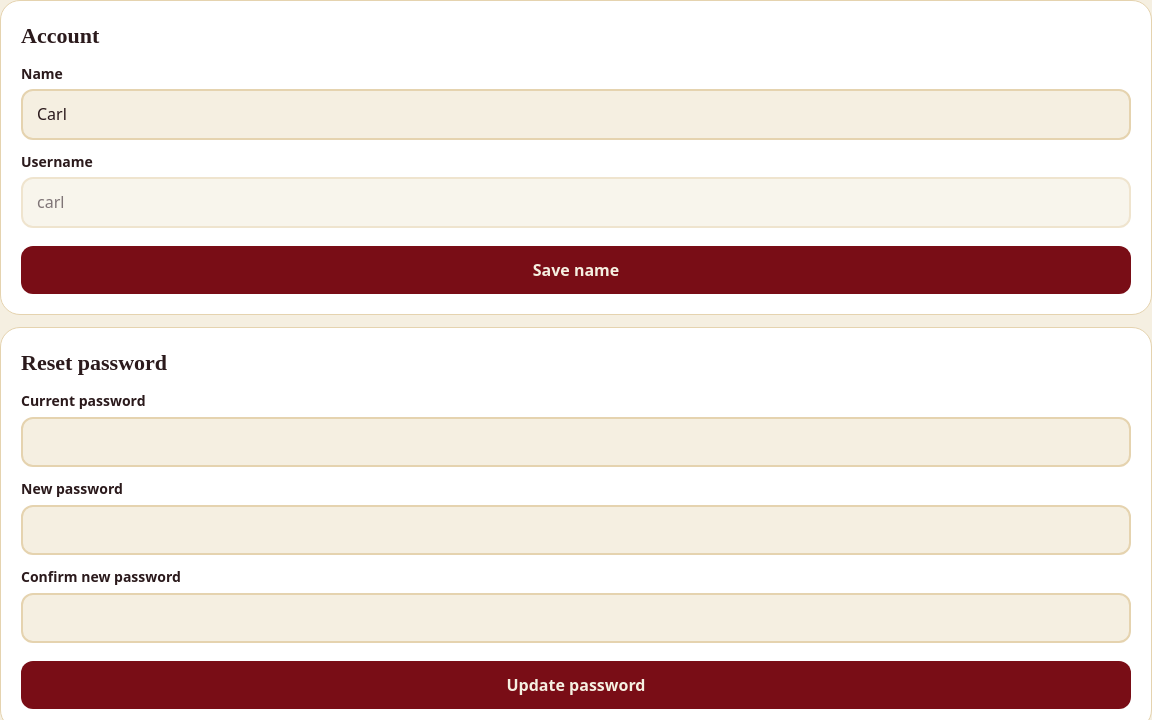
it: saving the name sends PATCH /me and confirms with a toast
Replace the text in the field labelled "Name" with "Carlita": point(576, 115) [21, 89, 1131, 140]
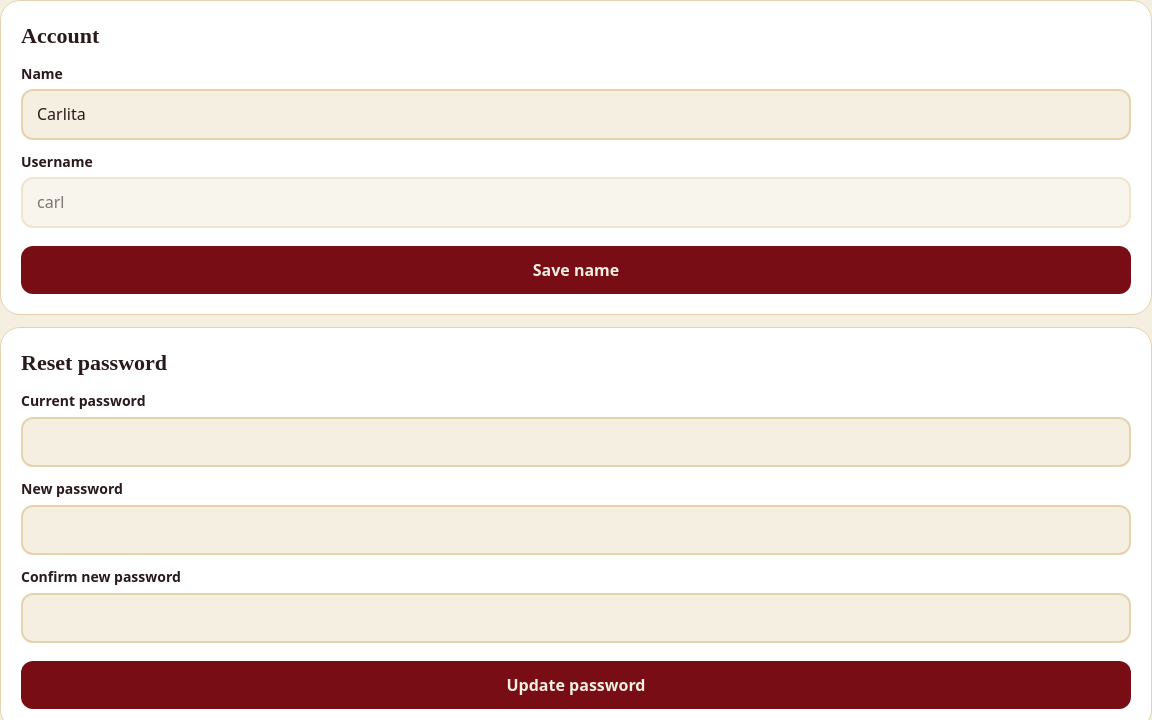
Click the button "Save name": point(576, 270) [21, 246, 1131, 294]
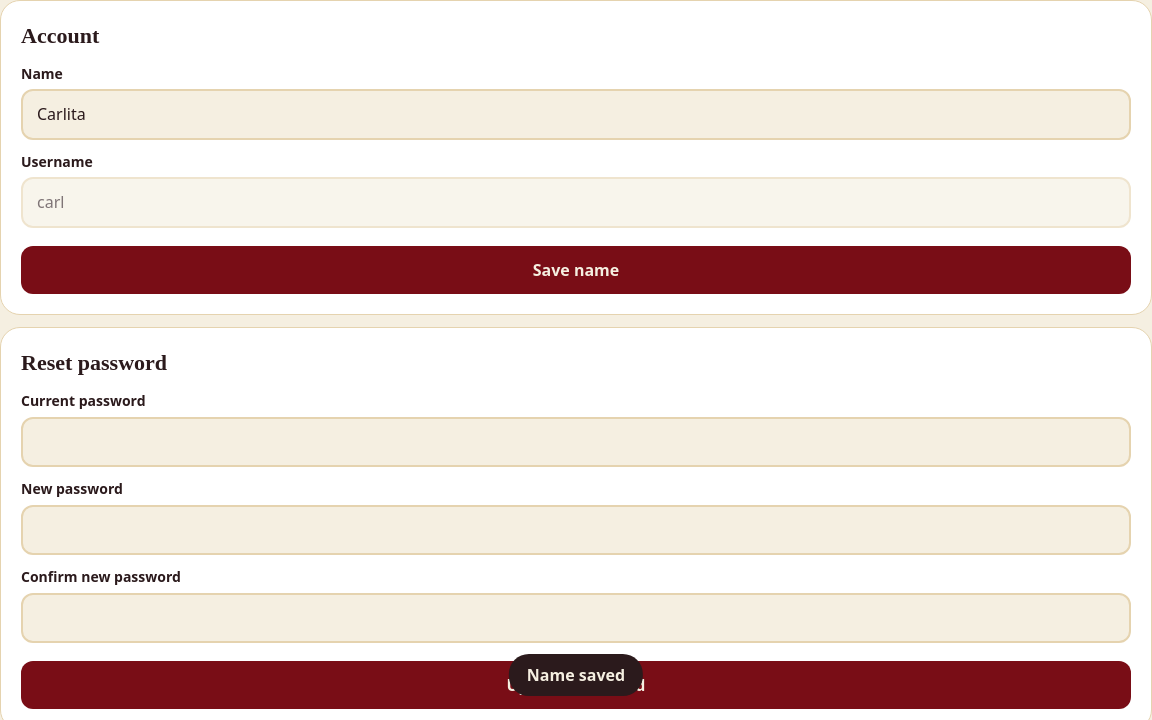
expect the text "Name saved" is shown: met, box [509, 654, 643, 696]
